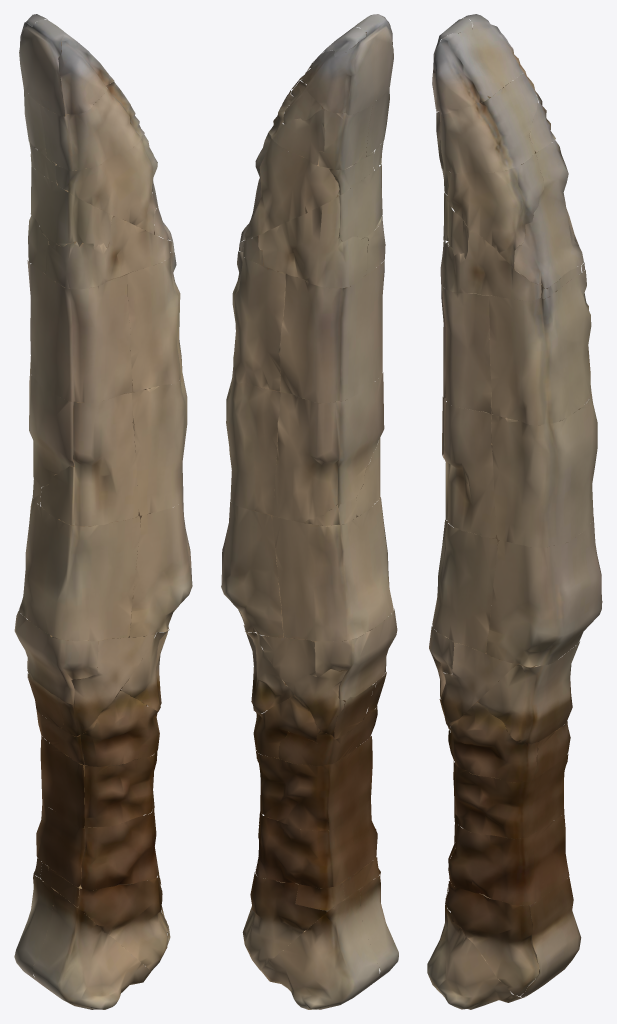
The model's file is dagger0.glb.
The picture shows the model from 3 angles, left to right: view 1: azimuth 30°, elevation 25°; view 2: azimuth 150°, elevation 25°; view 3: azimuth 330°, elevation 25°; orthographic projection.
Parts seen in each view (by area): view 1: dagger0; view 2: dagger0; view 3: dagger0.
Boxes of the visible parts, x1,y1,x2,y2 form: dagger0: (14,14,192,1009); dagger0: (221,14,398,1009); dagger0: (427,14,602,1009).
Size of the model in its own units: 0.1522 by 1 by 0.1212.
1 material, 1 textured.
